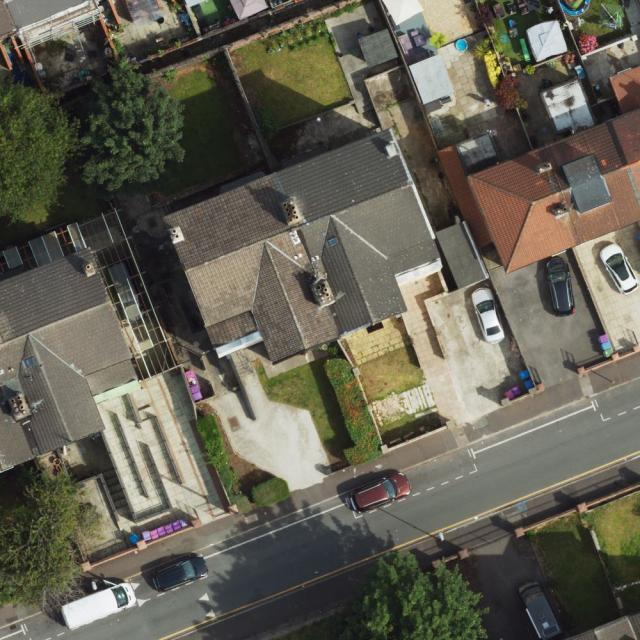roof: (162, 129, 441, 362), (470, 64, 640, 274), (0, 245, 135, 472), (563, 611, 640, 640)
skylight: (326, 234, 342, 250), (22, 355, 37, 370)
